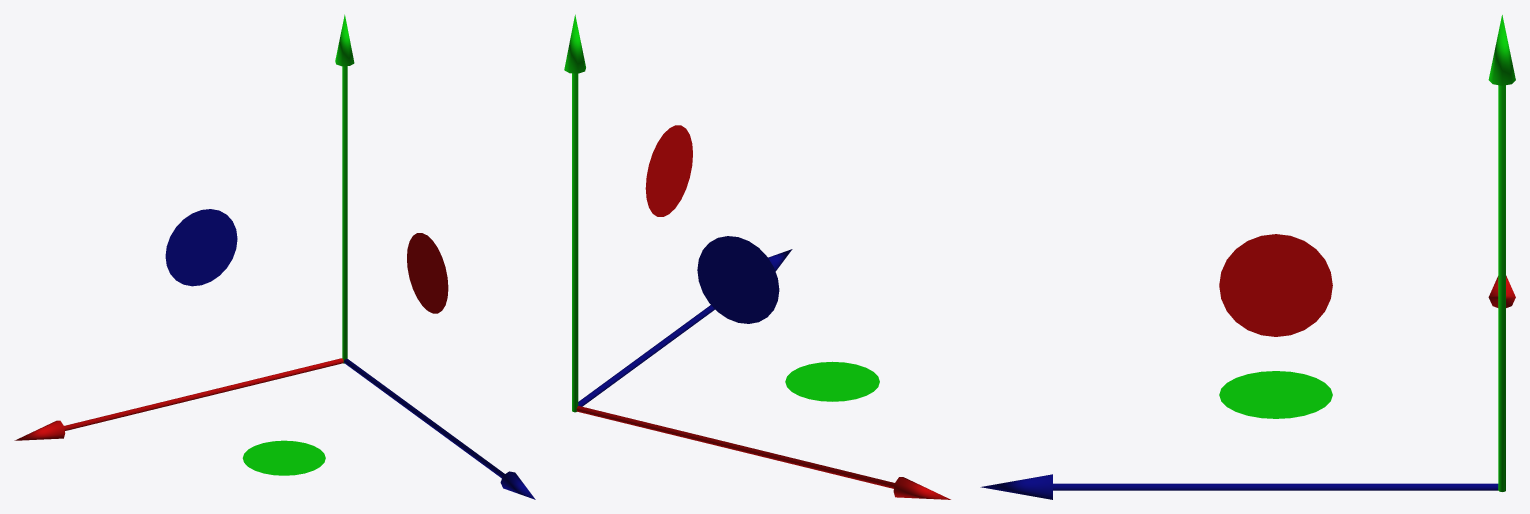
Rendered from Gizmo.fbx.
3 renders of one model, left to right at view 1: azimuth 30°, elevation 25°; view 2: azimuth 150°, elevation 25°; view 3: azimuth 270°, elevation 25°, orthographic. The views are drawn at different scales.
Parts seen in each view (by area): view 1: BluePlane, RedPlane, GreenPlane, Y, X, Z; view 2: BluePlane, RedPlane, Y, GreenPlane, X, Z; view 3: RedPlane, Z, GreenPlane, Y.
Boxes of the visible parts, x1,y1,x2,y2 form: BluePlane: (165, 209, 237, 286); RedPlane: (407, 233, 448, 313); GreenPlane: (242, 440, 325, 475); Y: (335, 14, 354, 363); X: (14, 358, 343, 440); Z: (344, 358, 535, 499); BluePlane: (697, 236, 779, 323); RedPlane: (645, 125, 692, 216); Y: (564, 14, 585, 412); GreenPlane: (785, 361, 879, 401); X: (576, 406, 950, 499); Z: (578, 249, 792, 406); RedPlane: (1219, 234, 1332, 336); Z: (980, 474, 1498, 499); GreenPlane: (1219, 371, 1332, 418); Y: (1488, 15, 1515, 491).
Bounding box in the file's own units: 296 × 296 × 296.
